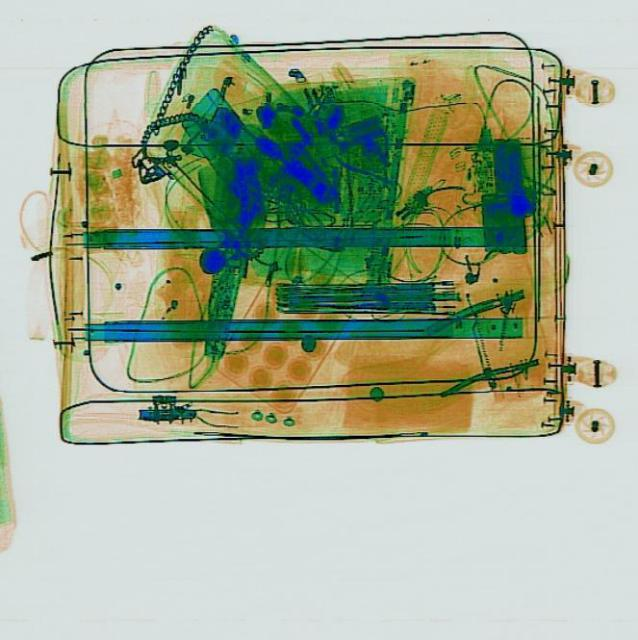Pliers: (330, 127, 410, 199)
